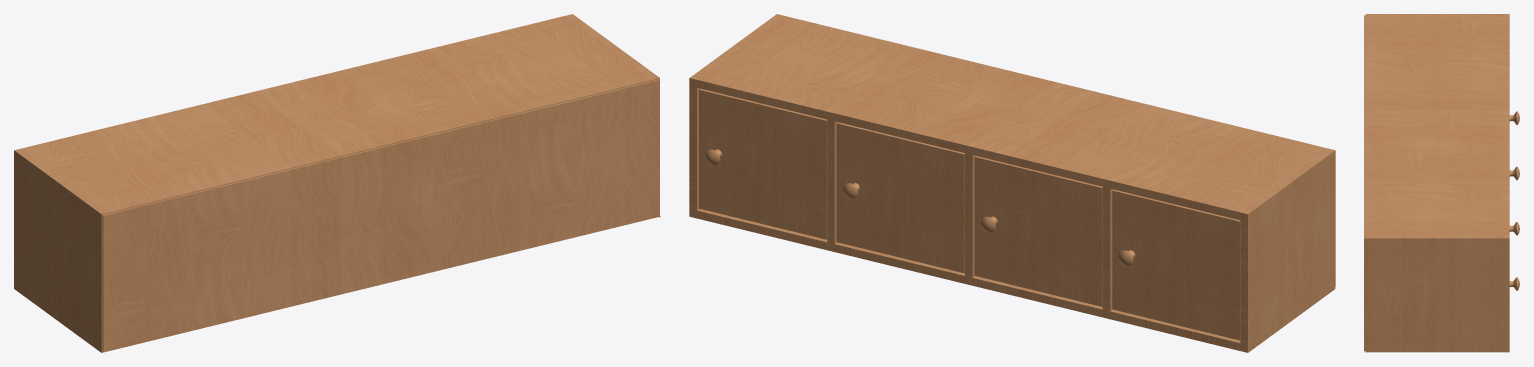
The model's file is antresol_k_shkafu_4_sektsionnaja.glb.
3 renders of one model, left to right at view 1: azimuth 30°, elevation 25°; view 2: azimuth 150°, elevation 25°; view 3: azimuth 270°, elevation 25°, orthographic. The views are drawn at different scales.
Parts seen in each view (by area): view 1: Shape_IndexedFaceSet.006_NON, Shape_IndexedFaceSet.003, Shape_IndexedFaceSet.001, Shape_IndexedFaceSet; view 2: Shape_IndexedFaceSet.003, Shape_IndexedFaceSet.007, Shape_IndexedFaceSet.009, Shape_IndexedFaceSet.011, Shape_IndexedFaceSet.014, Shape_IndexedFaceSet.001, Shape_IndexedFaceSet.002, Shape_IndexedFaceSet, Shape_IndexedFaceSet.013, Shape_IndexedFaceSet.004, Shape_IndexedFaceSet.005; view 3: Shape_IndexedFaceSet.003, Shape_IndexedFaceSet, Shape_IndexedFaceSet.006_NON, Shape_IndexedFaceSet.001.
Boxes of the visible parts, x1=… form: Shape_IndexedFaceSet.006_NON: x1=102, y1=79, x2=659, y2=352; Shape_IndexedFaceSet.003: x1=22, y1=16, x2=652, y2=213; Shape_IndexedFaceSet.001: x1=14, y1=148, x2=108, y2=352; Shape_IndexedFaceSet: x1=565, y1=14, x2=659, y2=80; Shape_IndexedFaceSet.003: x1=697, y1=16, x2=1327, y2=219; Shape_IndexedFaceSet.007: x1=974, y1=156, x2=1102, y2=306; Shape_IndexedFaceSet.009: x1=699, y1=88, x2=827, y2=239; Shape_IndexedFaceSet.011: x1=836, y1=122, x2=964, y2=273; Shape_IndexedFaceSet.014: x1=1112, y1=189, x2=1240, y2=340; Shape_IndexedFaceSet.001: x1=1240, y1=148, x2=1335, y2=352; Shape_IndexedFaceSet.002: x1=697, y1=209, x2=1240, y2=350; Shape_IndexedFaceSet: x1=689, y1=14, x2=783, y2=218; Shape_IndexedFaceSet.013: x1=1102, y1=187, x2=1113, y2=311; Shape_IndexedFaceSet.004: x1=827, y1=119, x2=837, y2=244; Shape_IndexedFaceSet.005: x1=965, y1=153, x2=975, y2=277; Shape_IndexedFaceSet.003: x1=1365, y1=17, x2=1509, y2=235; Shape_IndexedFaceSet: x1=1365, y1=235, x2=1509, y2=352; Shape_IndexedFaceSet.006_NON: x1=1364, y1=15, x2=1365, y2=351; Shape_IndexedFaceSet.001: x1=1365, y1=14, x2=1509, y2=16.
Bounding box in the file's own units: 1181 × 281 × 347.
17 materials, 16 textured.
